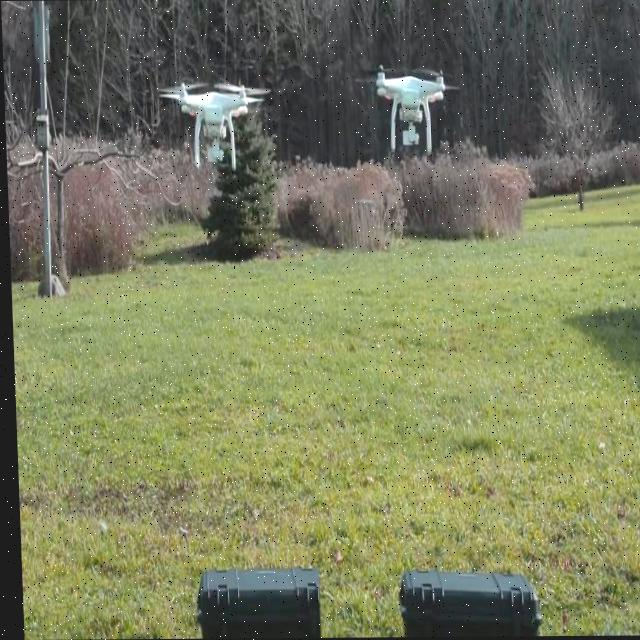drone: (158, 76, 267, 170), (368, 60, 446, 153)
